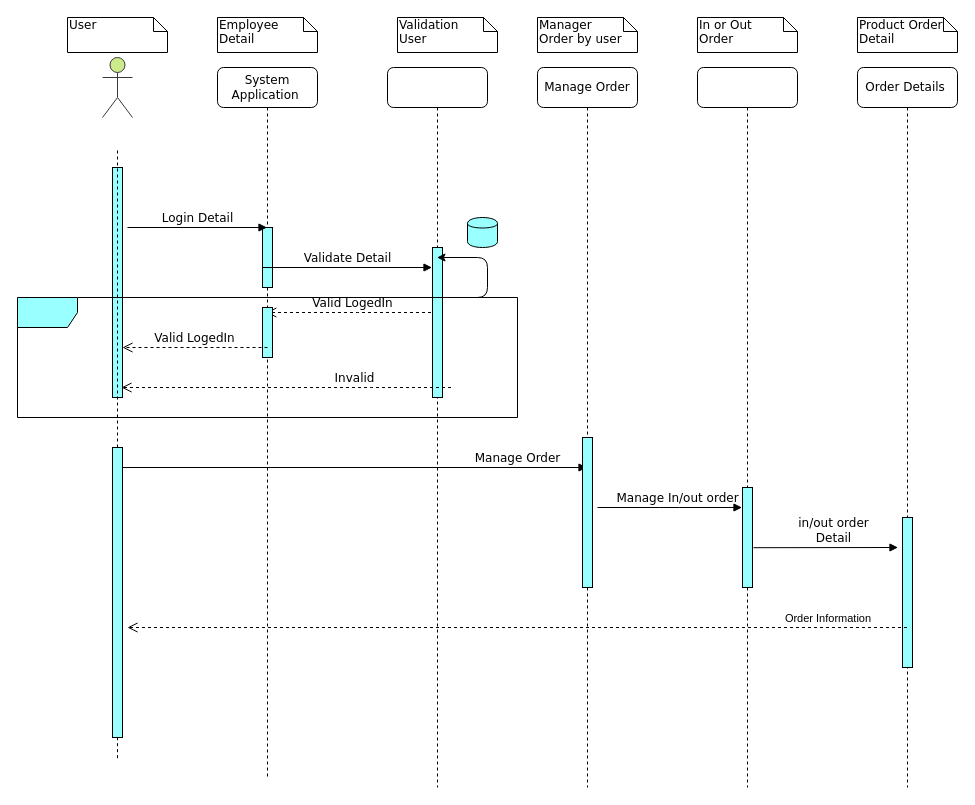
Image size: 975x805. Some labels were removed from this diagram. Here are the shapes that lost their labels. From the top down, the box of each, then its label:
(102, 56, 132, 118): Employee
(16, 296, 518, 418): User Login
(386, 66, 488, 788): Databae
(696, 66, 798, 788): Order Categories
